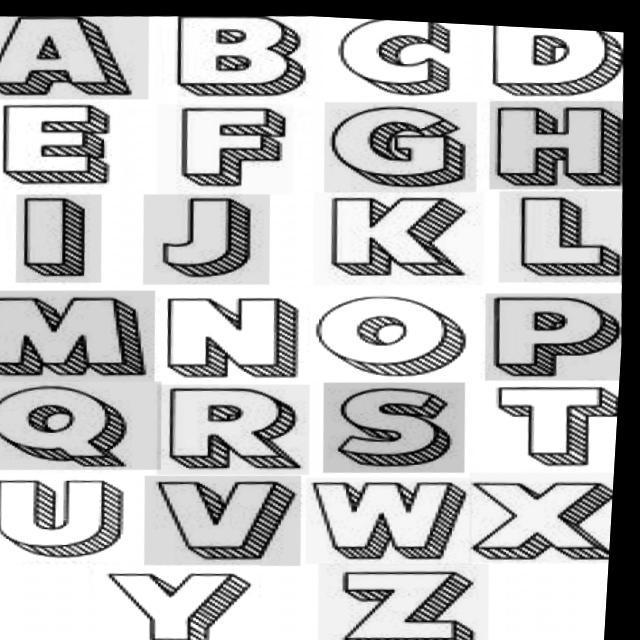F: (175, 103, 288, 184)
G: (328, 102, 469, 188)
H: (493, 100, 612, 183)
I: (16, 191, 88, 284)
J: (158, 197, 259, 276)
K: (325, 197, 467, 284)
L: (510, 190, 618, 278)
N: (168, 296, 300, 378)
O: (316, 293, 464, 376)
P: (490, 294, 617, 377)
R: (168, 386, 302, 474)
S: (334, 386, 458, 470)
V: (152, 477, 294, 562)
W: (307, 480, 468, 562)
